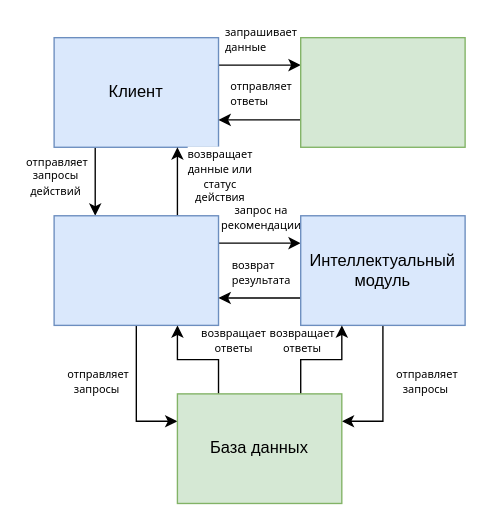
Image size: 490x527. Some labels were removed from this diagram. The box of each missing label's shape, as (x1, y1, x2, y2) in pixels:
Внешний сервис: (299, 36, 465, 147)
Сервер: (53, 214, 219, 325)
